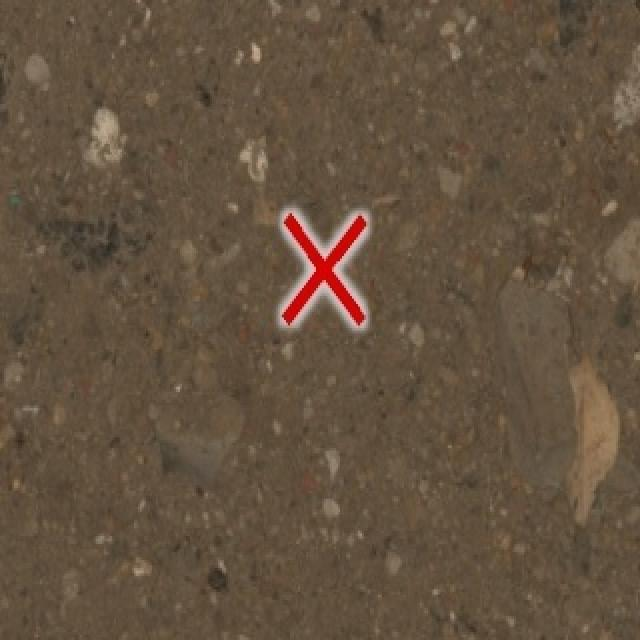x_marker: (281, 212, 365, 324)
